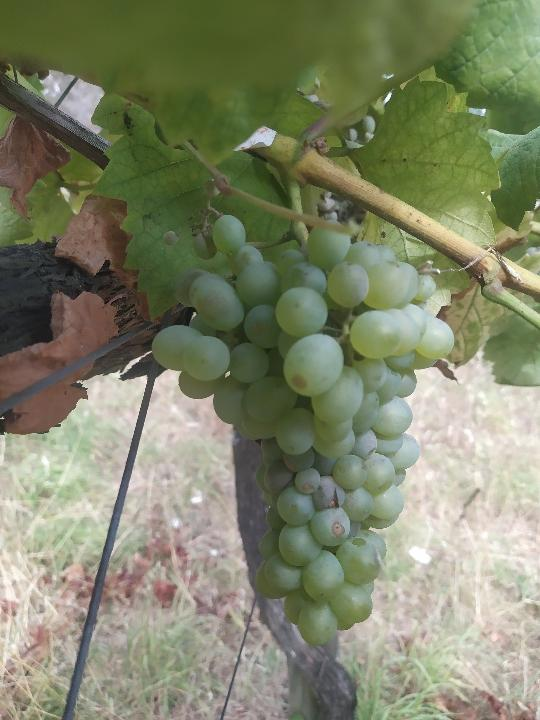grape: (148, 212, 456, 645)
